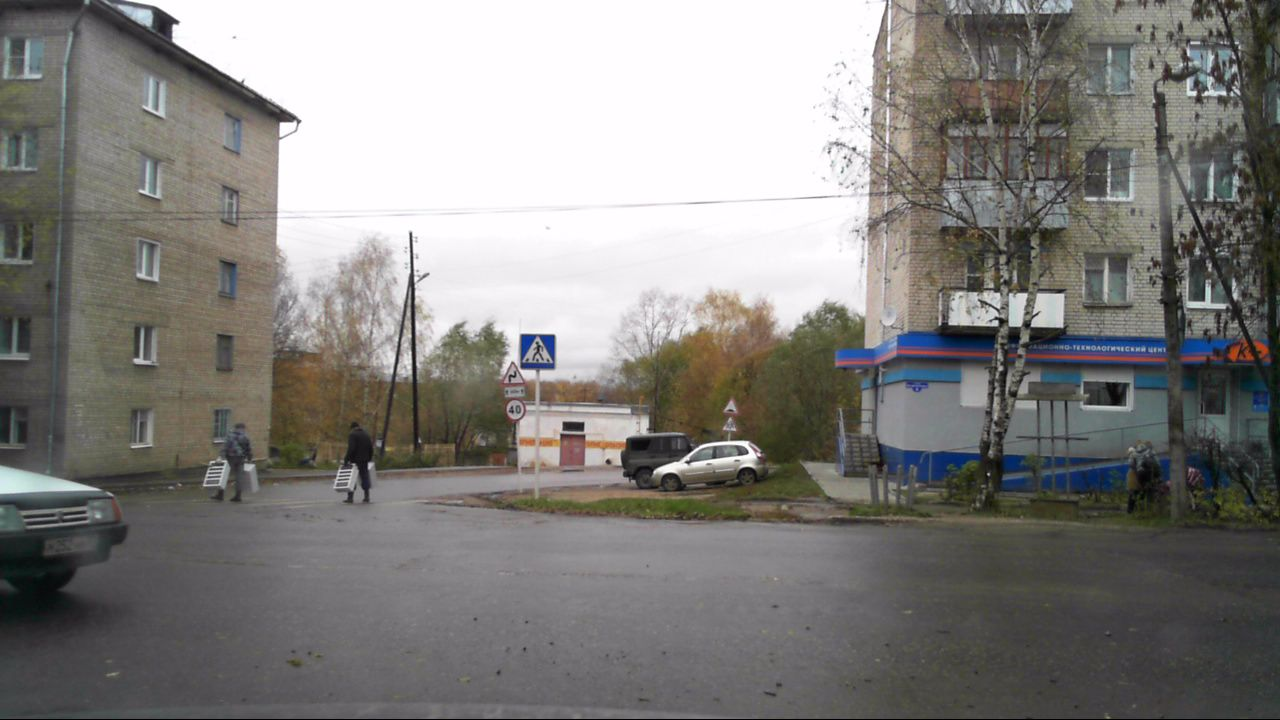speed_warning_40: (503, 396, 528, 421)
